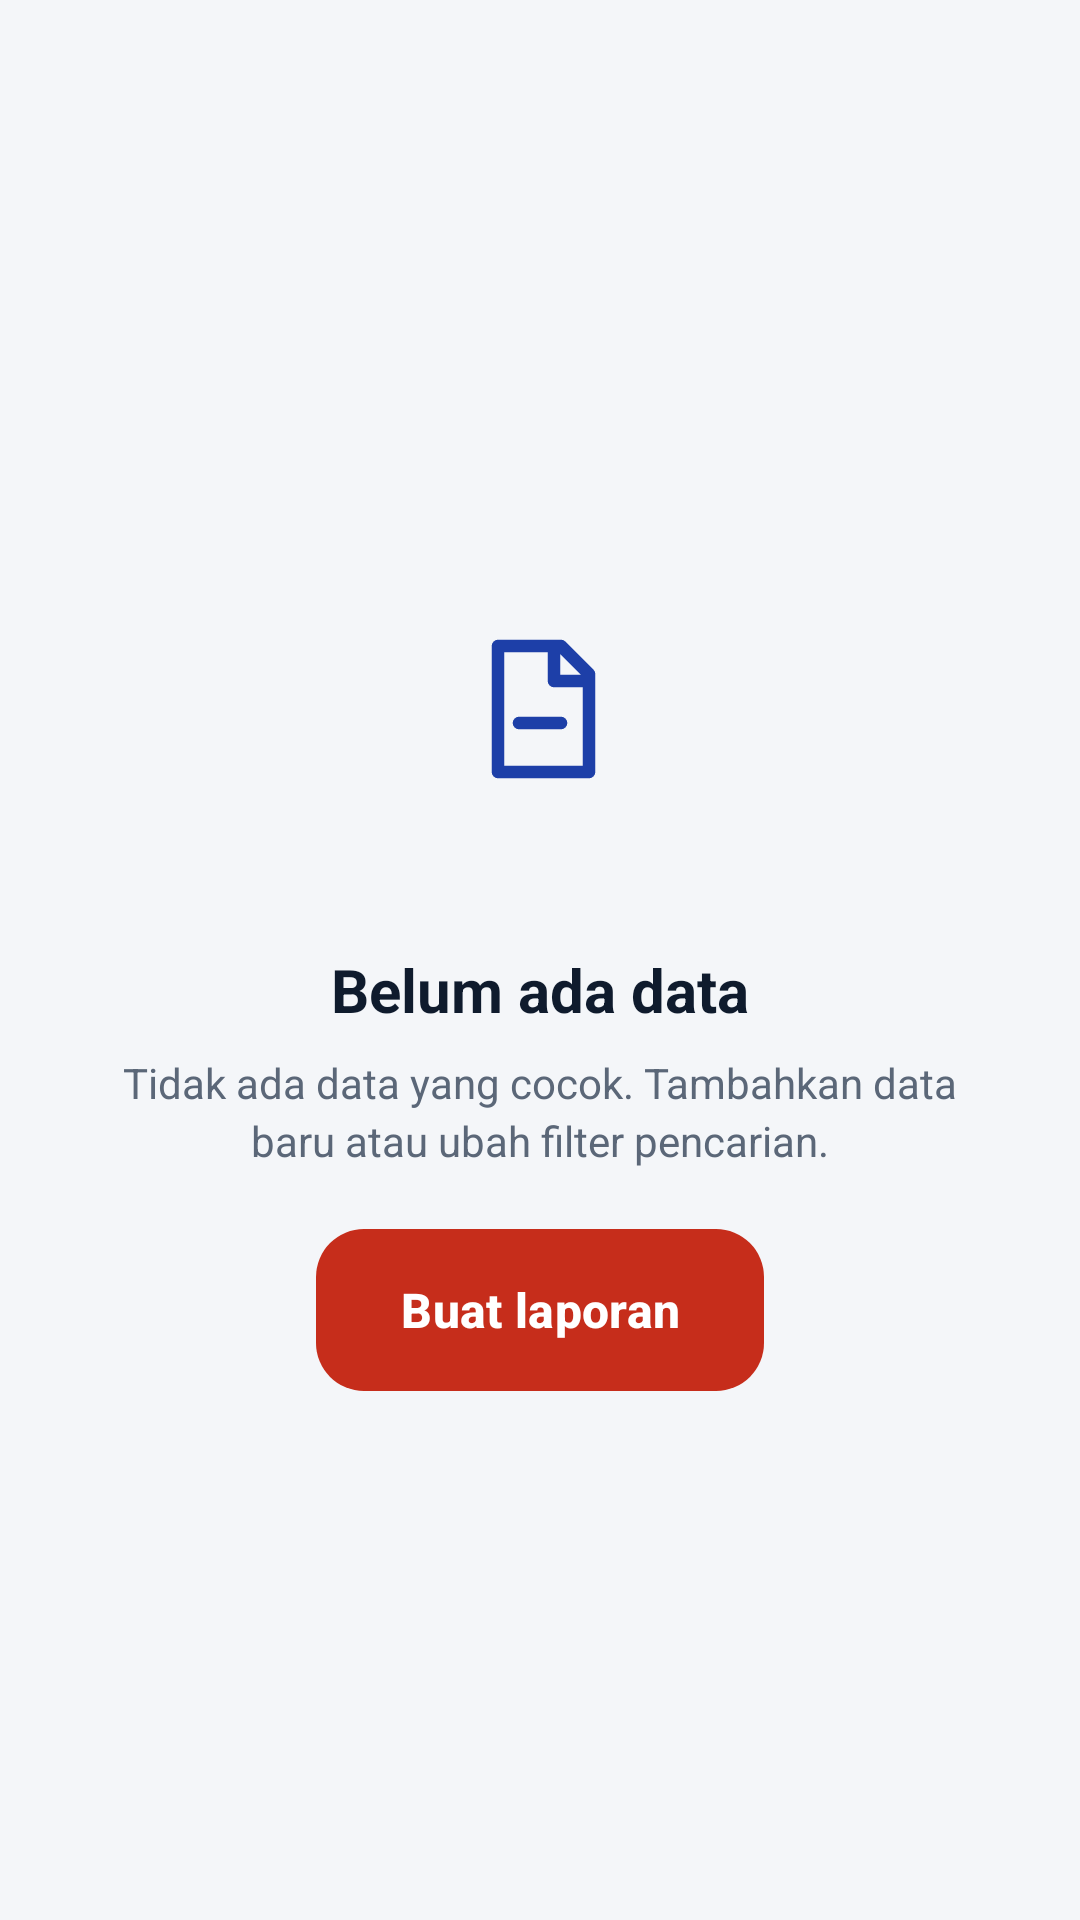

Icons on this 1080w x 1920h Android screen, each with the point to tap as [x,y]:
document: [543,709]
